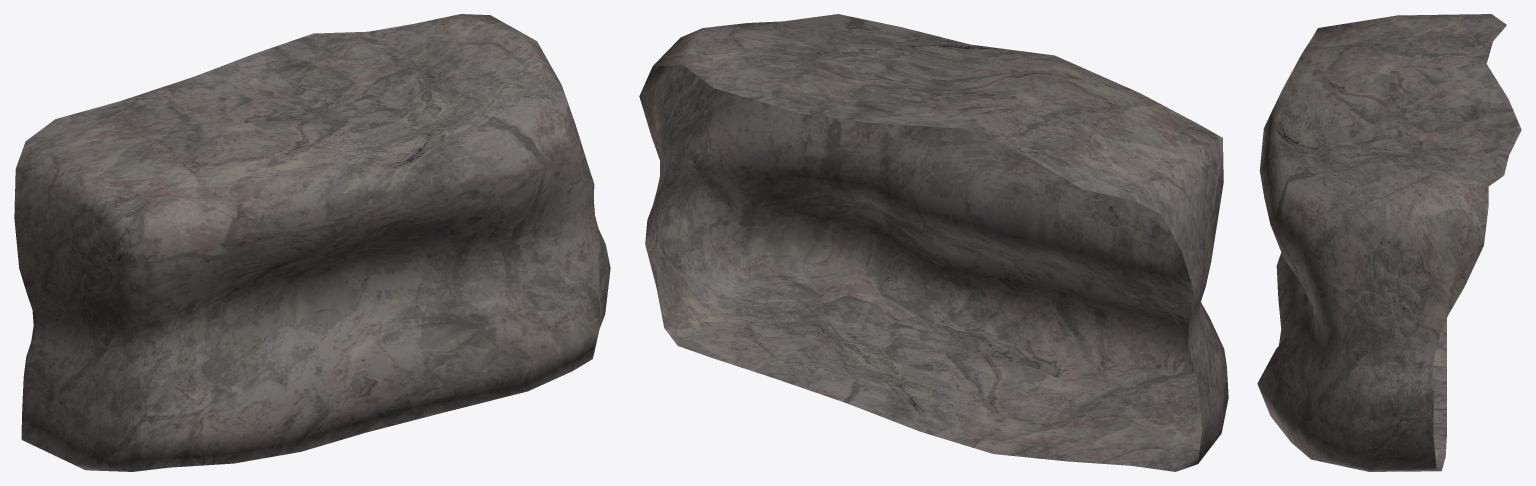
File: Roca 1.fbx
3 views of the same model, side by side, from view 1: azimuth 30°, elevation 25°; view 2: azimuth 150°, elevation 25°; view 3: azimuth 270°, elevation 25° (orthographic). The views are drawn at different scales.
Parts seen in each view (by area): view 1: pCube1; view 2: pCube1; view 3: pCube1.
Boxes of the visible parts, x1,y1,x2,y2 form: pCube1: (14, 14, 610, 471); pCube1: (639, 14, 1228, 471); pCube1: (1257, 14, 1521, 471).
Size of the model in its own units: 27.16 by 15.42 by 12.36.
Materials: 1 (1 with a texture image).
